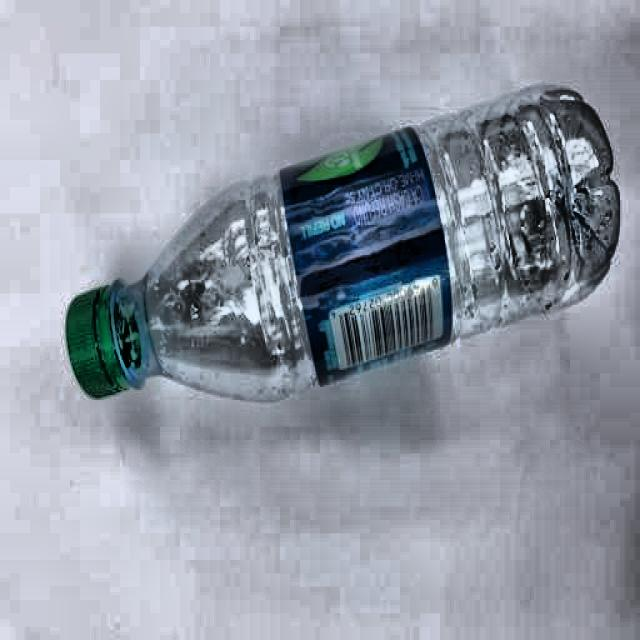plastic: (60, 90, 619, 402)
